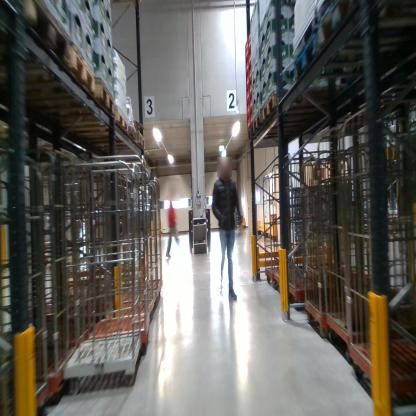pallet: (278, 23, 399, 99), (1, 45, 101, 101), (264, 90, 383, 134), (315, 3, 396, 46), (11, 1, 69, 59), (35, 103, 130, 134), (50, 132, 147, 155), (243, 116, 303, 141), (98, 67, 120, 121), (253, 106, 296, 130), (128, 118, 139, 139)
